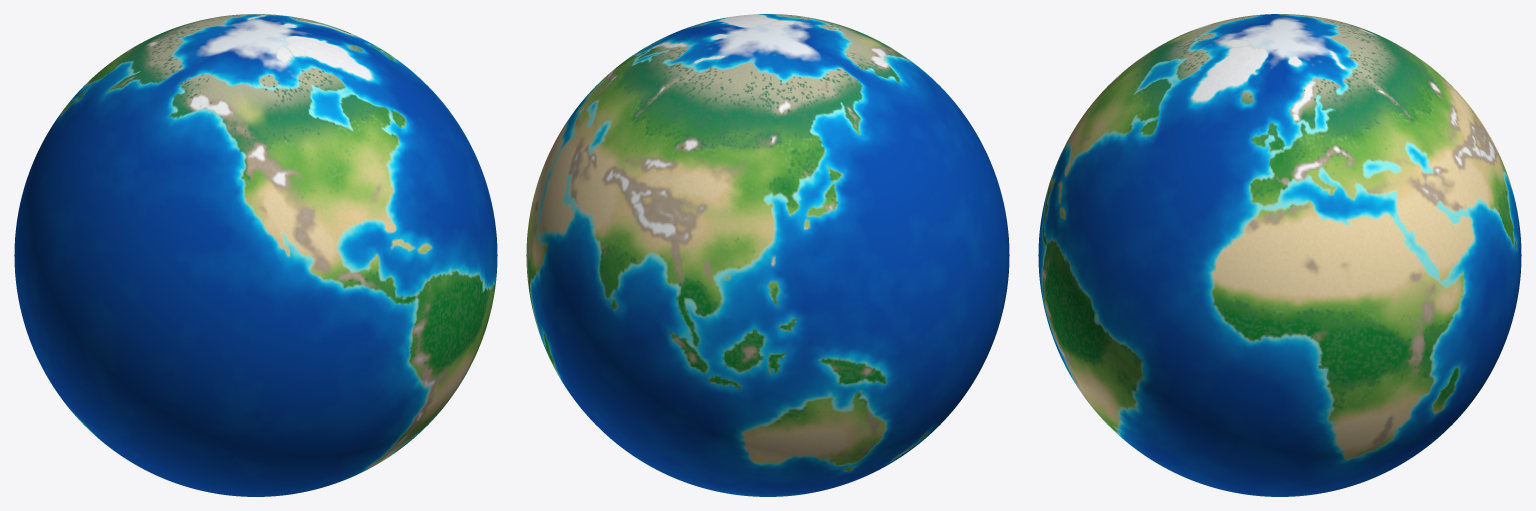
The model's file is planetary_globe.glb.
3 views of the same model, side by side, from view 1: azimuth 30°, elevation 25°; view 2: azimuth 150°, elevation 25°; view 3: azimuth 270°, elevation 25° (orthographic).
Parts seen in each view (by area): view 1: GlobeWeb; view 2: GlobeWeb; view 3: GlobeWeb.
Boxes of the visible parts, left/top/right/bottom form: GlobeWeb: left=14, top=14, right=497, bottom=496; GlobeWeb: left=526, top=14, right=1009, bottom=496; GlobeWeb: left=1038, top=14, right=1521, bottom=496.
Bounding box in the file's own units: 2 × 2 × 2.
1 material, 1 textured.
